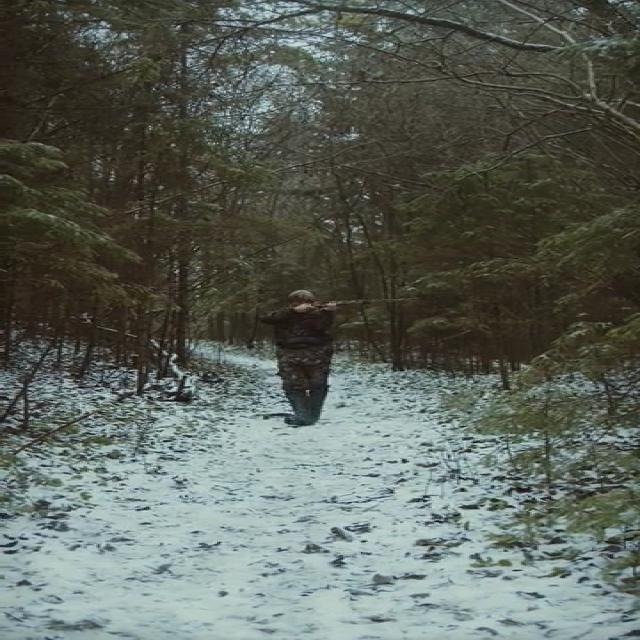Gun_Holder: (299, 298, 435, 316)
Person: (257, 288, 339, 423)
